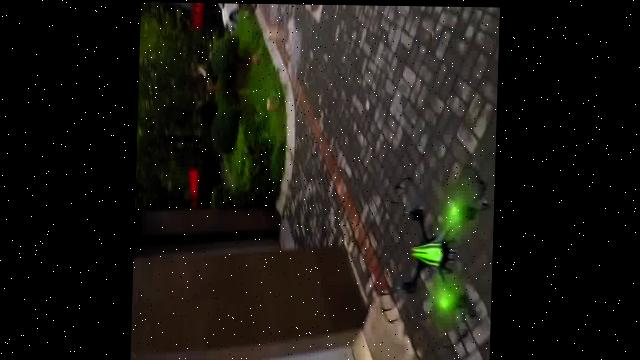drone: (384, 162, 484, 355)
